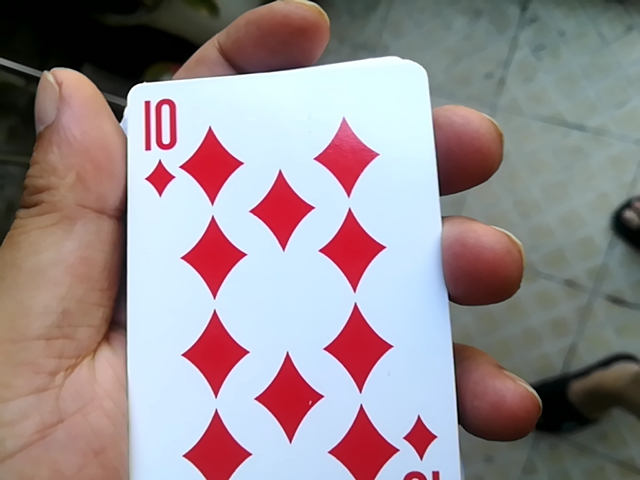fk 10: (110, 52, 444, 479)
